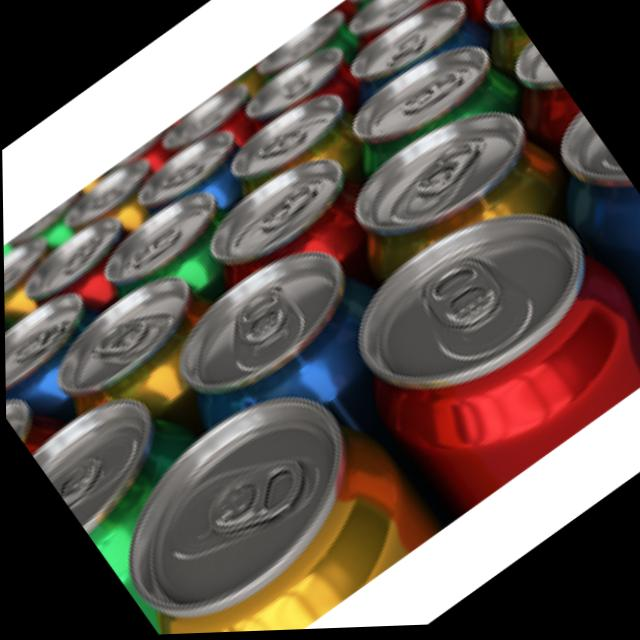aluminum_soda_cans: (74, 354, 423, 638), (337, 178, 640, 497), (336, 84, 549, 274), (162, 238, 364, 419), (30, 270, 205, 420), (29, 372, 187, 515)
